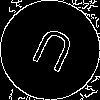U: (25, 25, 77, 82)
